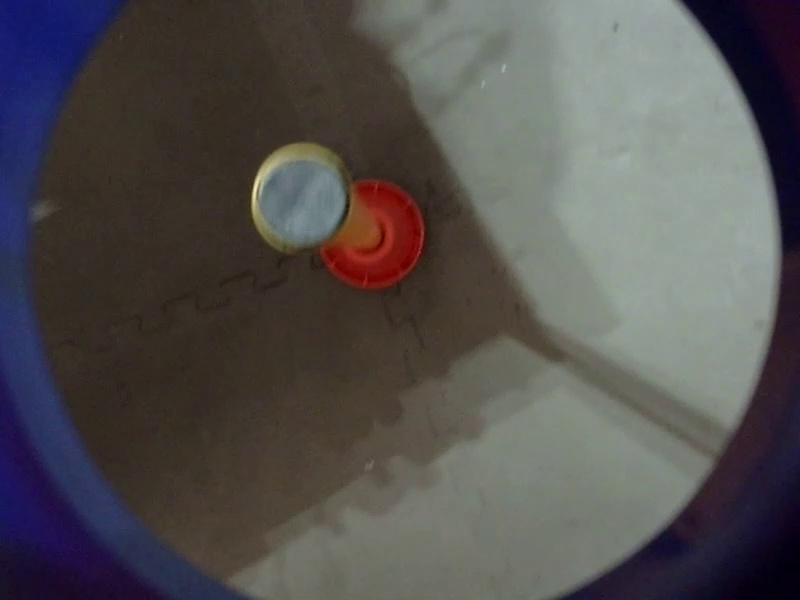tip: (503, 181, 609, 286)
